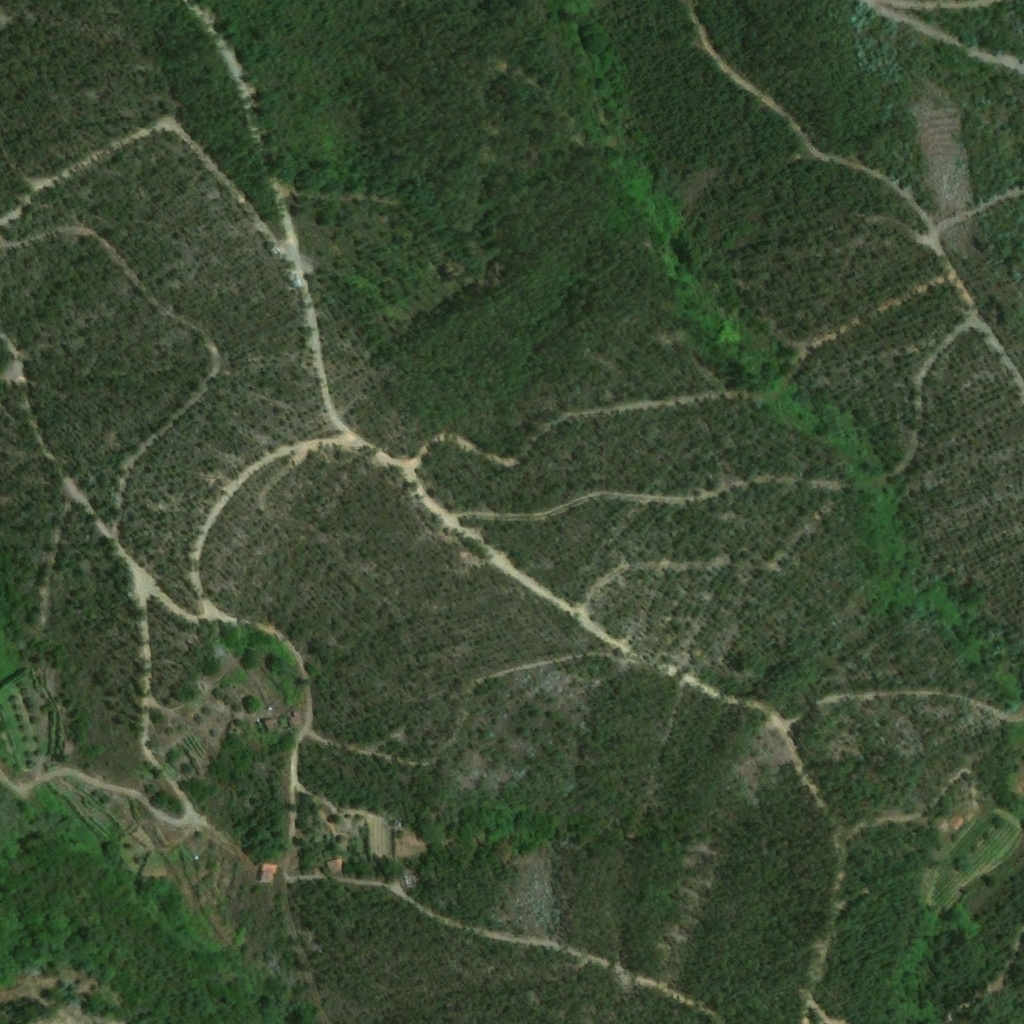0 no-damage: (288, 707, 310, 731), (258, 862, 279, 884), (327, 858, 345, 876), (946, 814, 962, 832), (402, 874, 418, 888), (960, 810, 974, 825), (264, 719, 280, 730)
4 un-classified: (268, 698, 289, 713), (396, 817, 405, 830)
